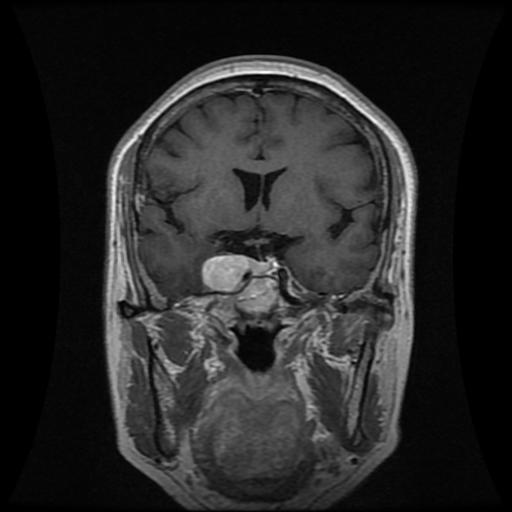Menigiomia_tumour: (200, 254, 250, 292)
